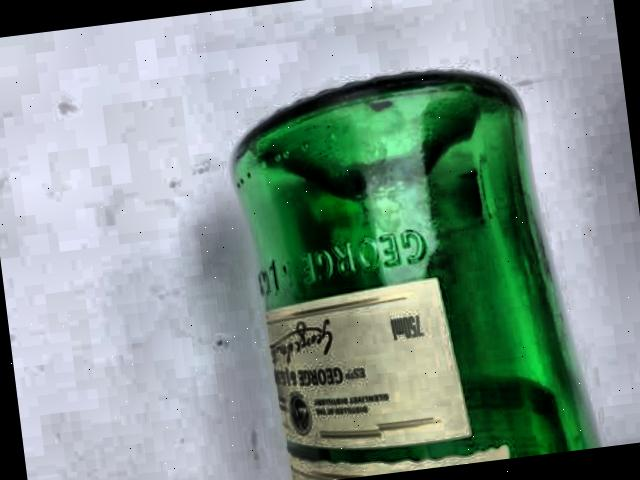Bottles: (208, 14, 616, 480)
